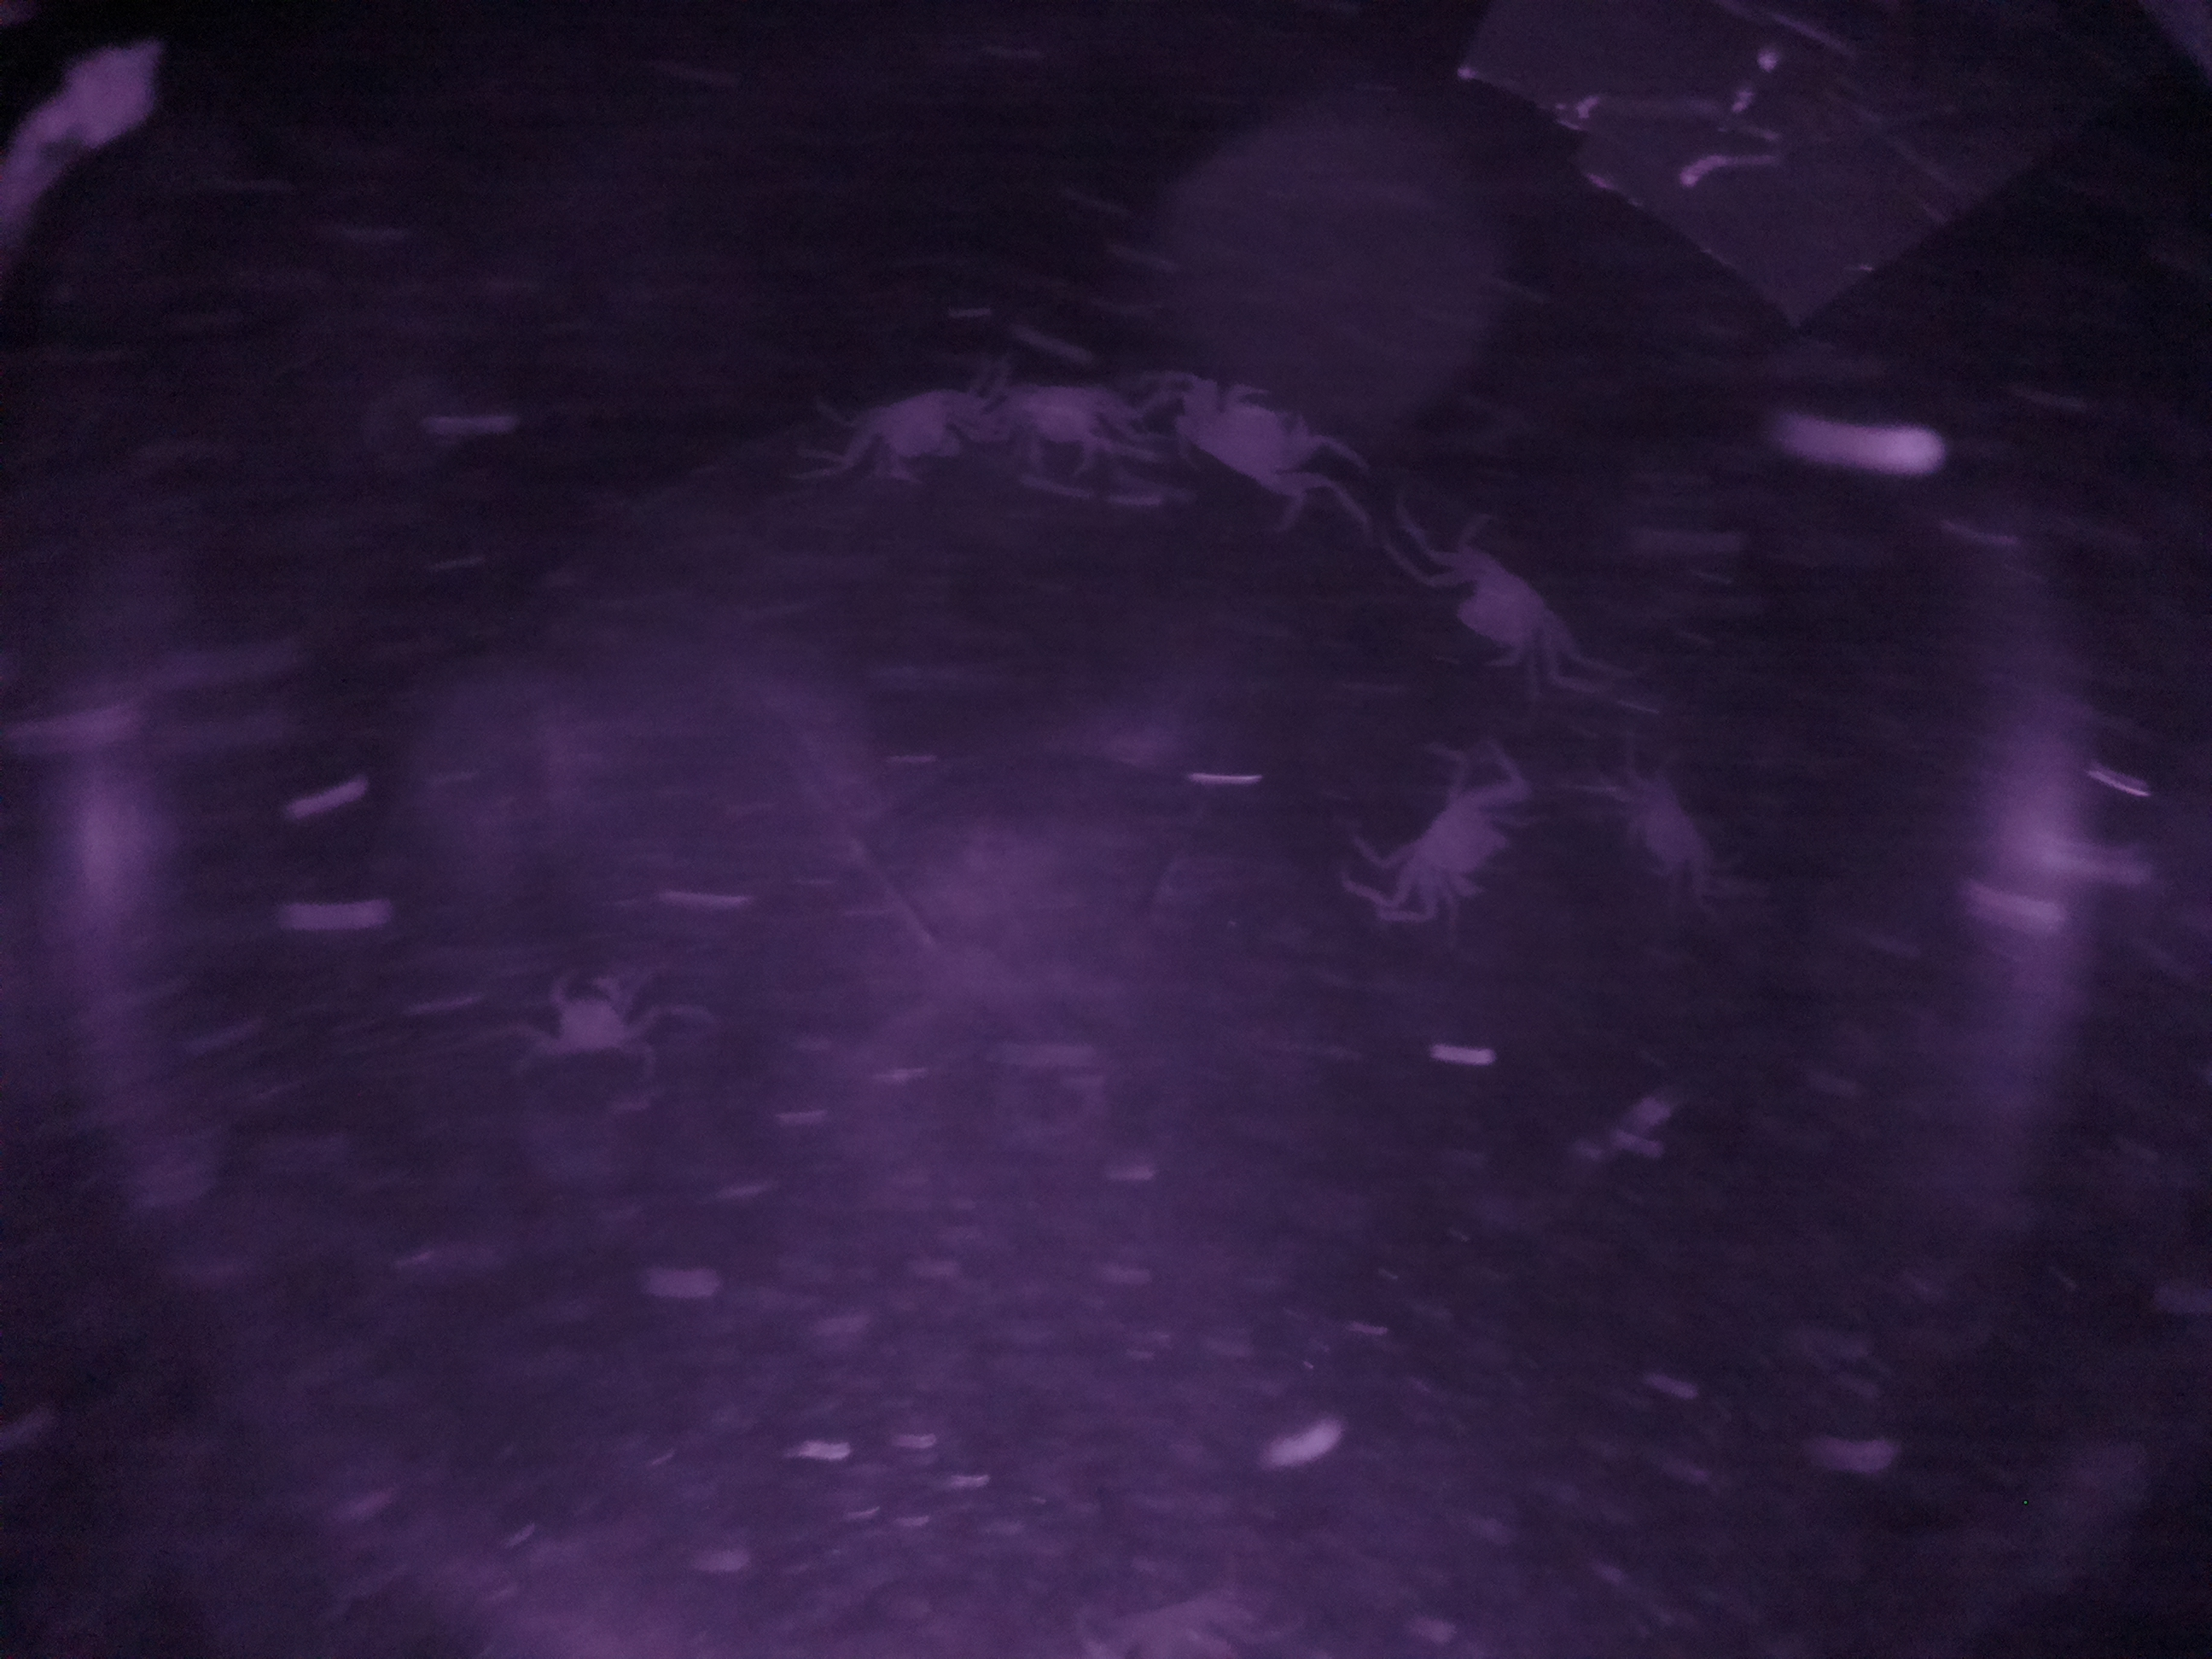Crab: (1407, 511, 1625, 706)
